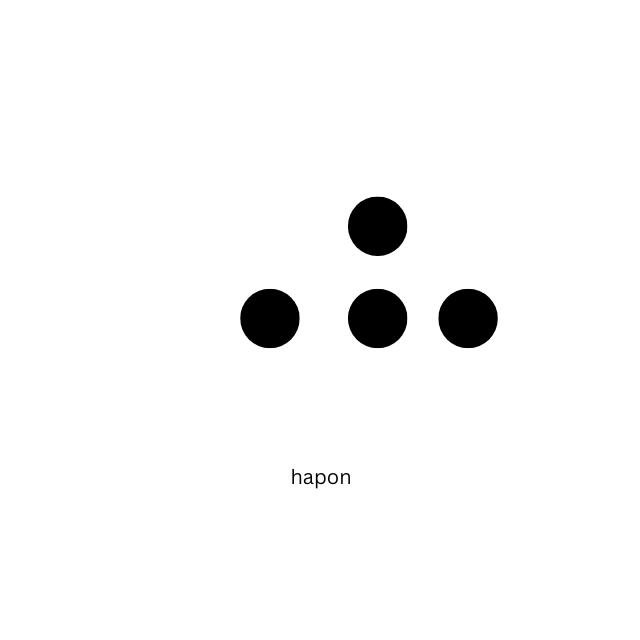dot_5: (148, 191, 301, 442)
two_cell_alphabet_hapon: (346, 195, 500, 446)
